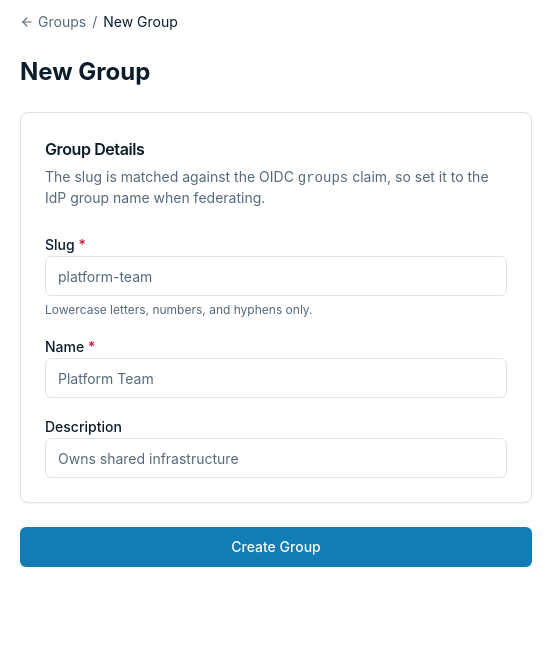
Test: AdminGroupNew › shows an error when the API returns a conflict
Type "dup" into the field labelled "Slug *" at (276, 276), box [45,256,507,296]
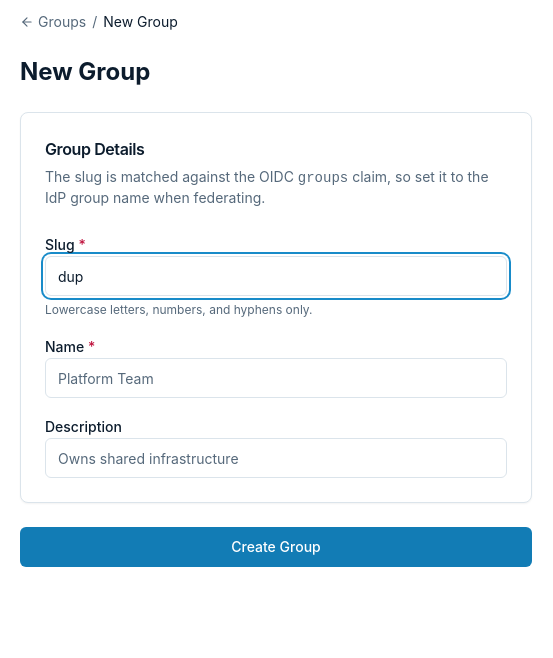
Type "Dup" into the field labelled "Name *" at (276, 378), box [45,358,507,398]
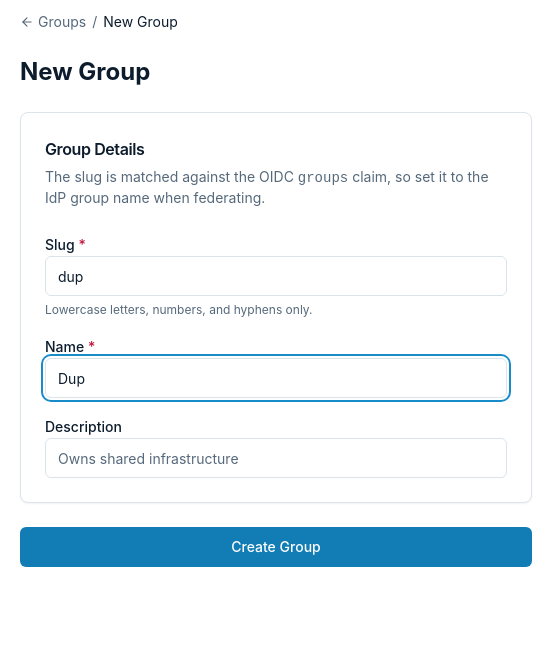
Click the button "Create Group" at (276, 547), box [20,527,532,567]
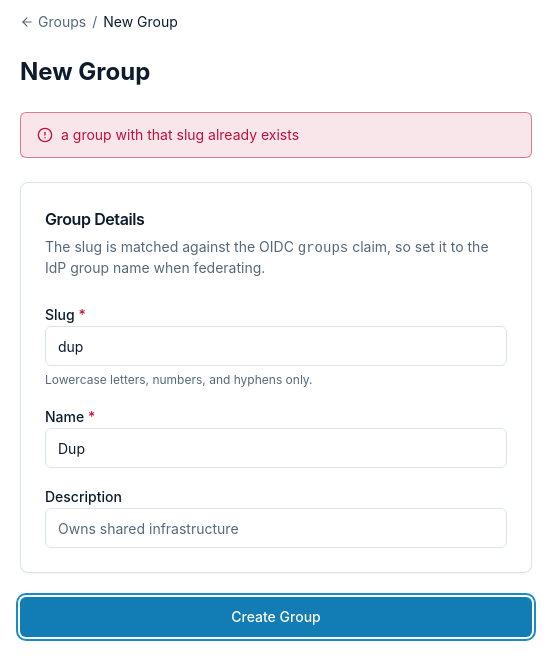
Expected: the message reads "a group with that slug already exists", [61,126,299,143]
